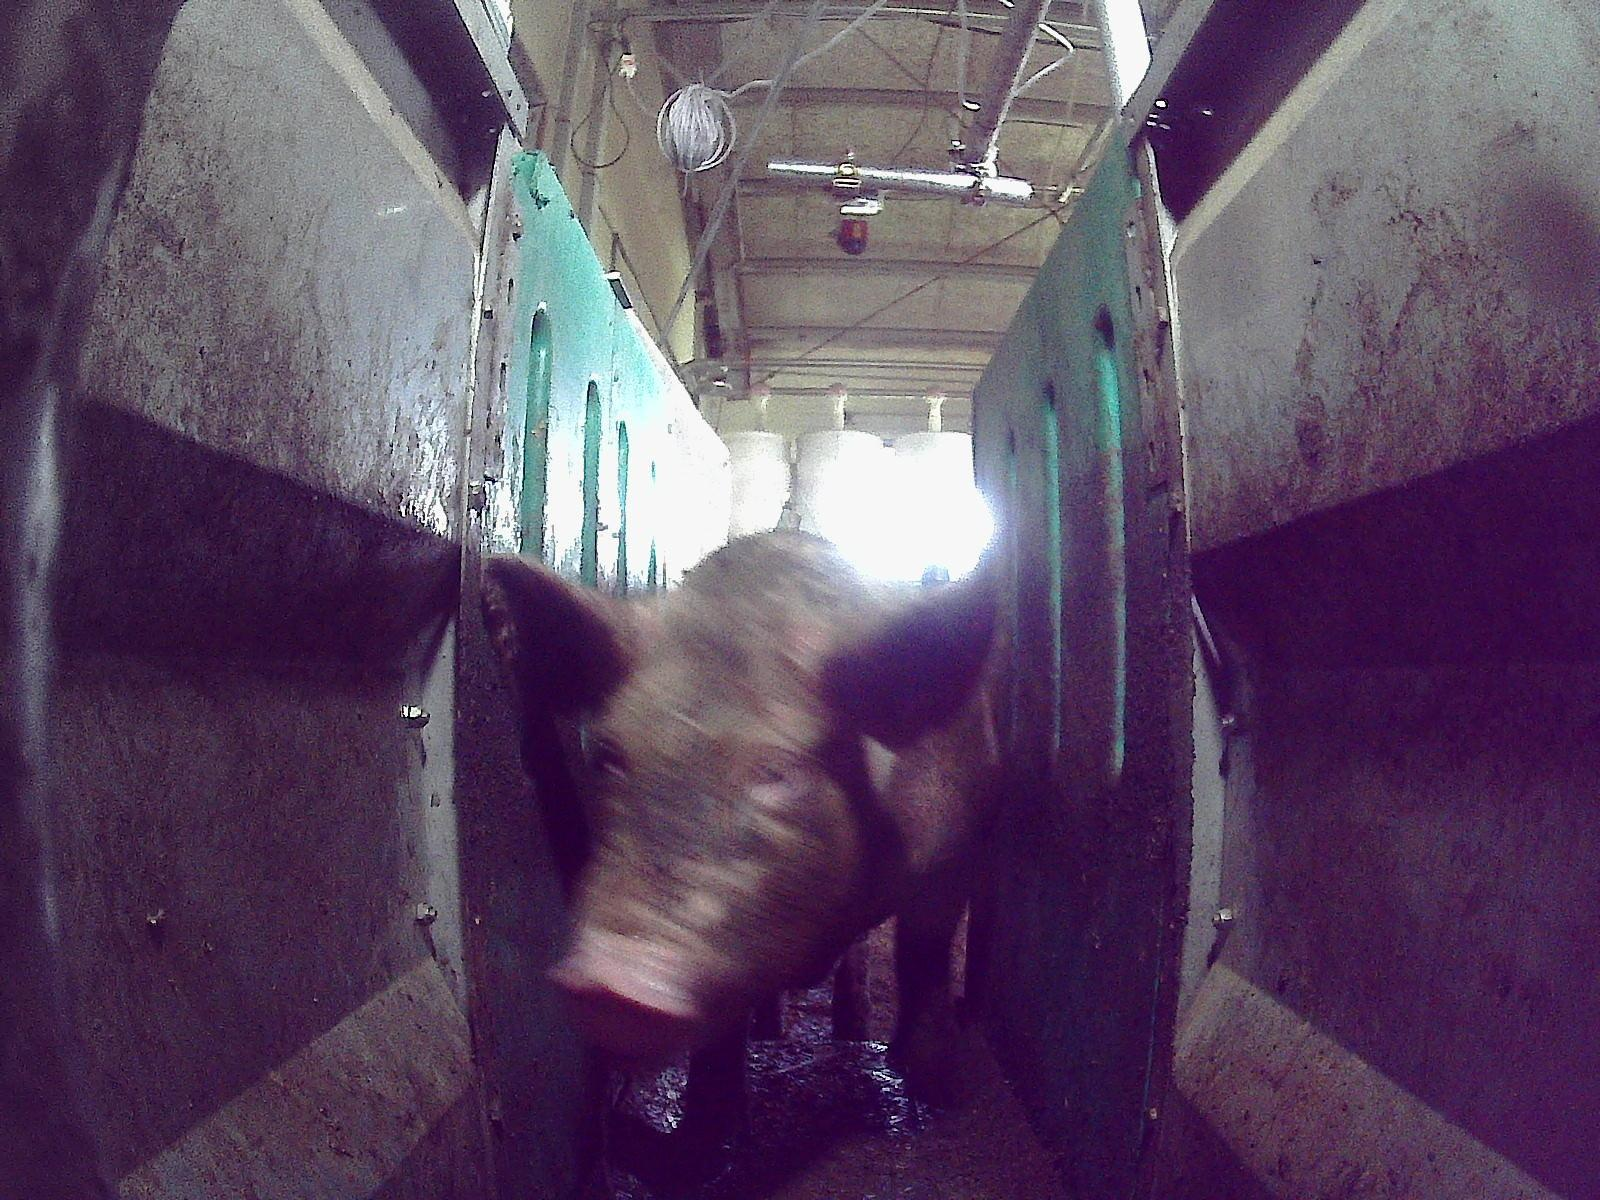Face: (542, 593, 896, 1056)
